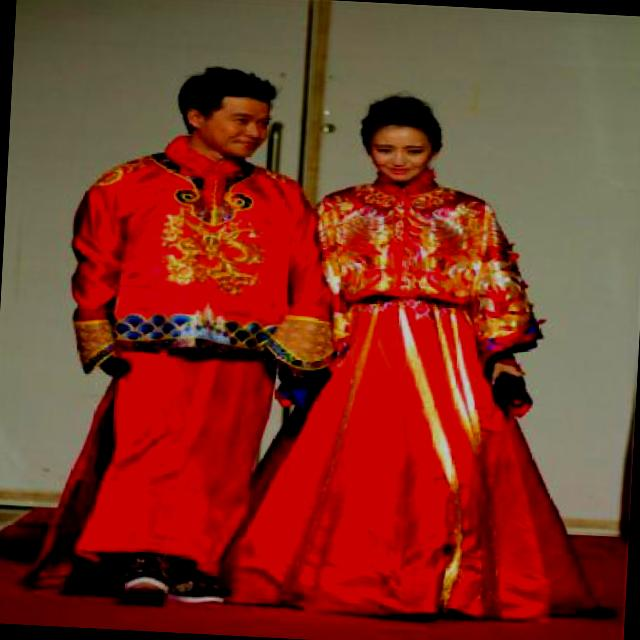Person: (248, 54, 624, 630), (28, 59, 374, 624)
